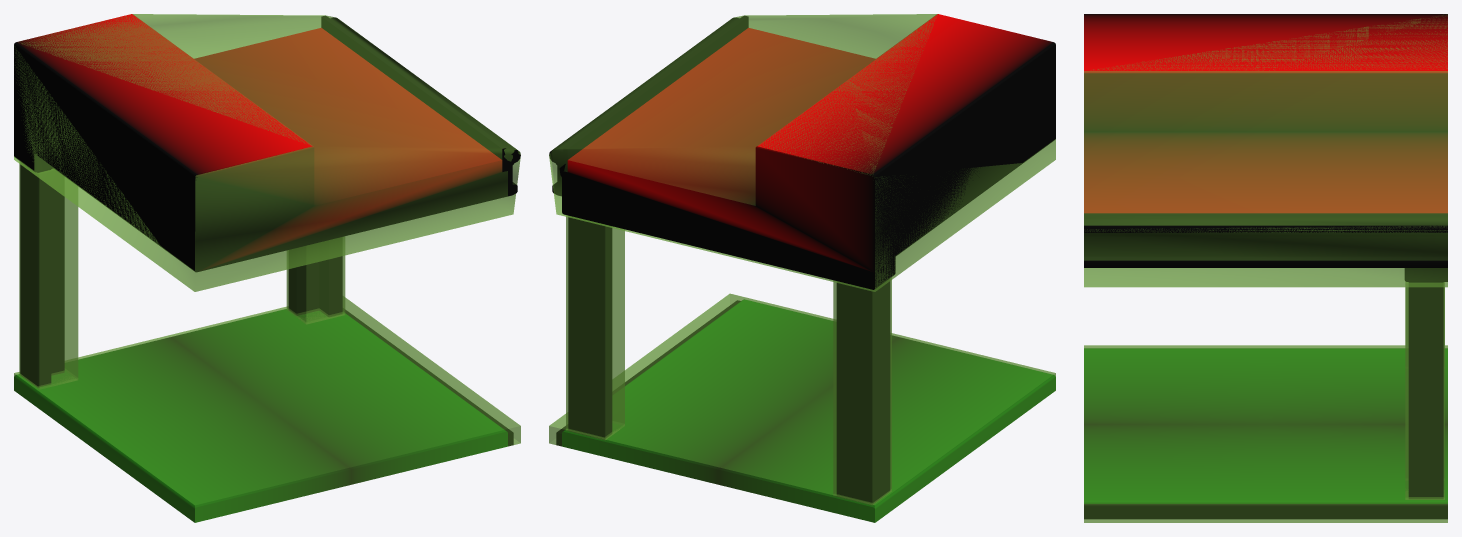
File: M_md_Stall2_1m_02_m.fbx
3 renders of one model, left to right at view 1: azimuth 30°, elevation 25°; view 2: azimuth 150°, elevation 25°; view 3: azimuth 270°, elevation 25°, orthographic.
Parts seen in each view (by area): view 1: M_md_Stall2_1m_02_m_LOD0, M_md_Stall2_1m_02_m_col_01, M_md_Stall2_1m_02_m_col_04, M_md_Stall2_1m_02_m_col_02, M_md_Stall2_1m_02_m_col_03; view 2: M_md_Stall2_1m_02_m_LOD0, M_md_Stall2_1m_02_m_col_04, M_md_Stall2_1m_02_m_col_01, M_md_Stall2_1m_02_m_col_02, M_md_Stall2_1m_02_m_col_03; view 3: M_md_Stall2_1m_02_m_LOD0, M_md_Stall2_1m_02_m_col_01, M_md_Stall2_1m_02_m_col_04, M_md_Stall2_1m_02_m_col_03.
Boxes of the visible parts, x1,y1,x2,y2 form: M_md_Stall2_1m_02_m_LOD0: [14, 14, 520, 522]; M_md_Stall2_1m_02_m_col_01: [14, 14, 520, 291]; M_md_Stall2_1m_02_m_col_04: [14, 296, 520, 522]; M_md_Stall2_1m_02_m_col_02: [19, 163, 78, 389]; M_md_Stall2_1m_02_m_col_03: [286, 237, 345, 324]; M_md_Stall2_1m_02_m_LOD0: [549, 14, 1055, 522]; M_md_Stall2_1m_02_m_col_04: [549, 293, 1055, 522]; M_md_Stall2_1m_02_m_col_01: [549, 14, 1055, 291]; M_md_Stall2_1m_02_m_col_02: [833, 278, 891, 505]; M_md_Stall2_1m_02_m_col_03: [566, 216, 624, 439]; M_md_Stall2_1m_02_m_LOD0: [1084, 14, 1447, 519]; M_md_Stall2_1m_02_m_col_01: [1084, 14, 1447, 287]; M_md_Stall2_1m_02_m_col_04: [1084, 345, 1447, 522]; M_md_Stall2_1m_02_m_col_03: [1405, 282, 1444, 499].
Size of what is drawn, in the model's own units: 104 by 106 by 100.
